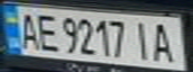1: (93, 16, 112, 57)
2: (75, 15, 93, 56)
7: (109, 17, 130, 59)
9: (57, 14, 81, 54)
A: (148, 19, 181, 64), (15, 9, 42, 51)
E: (33, 10, 60, 52)
I: (130, 18, 157, 62)
